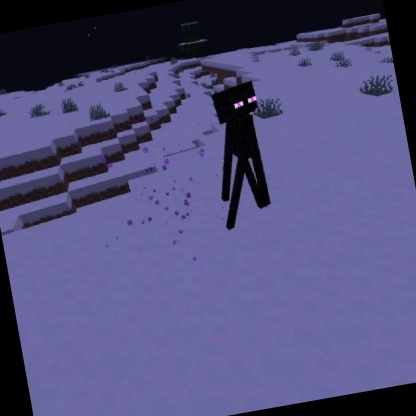enderman: (198, 78, 281, 234)
